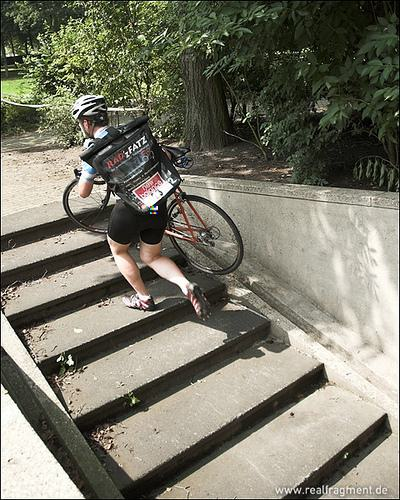car: (63, 143, 245, 278)
person: (72, 94, 214, 322)
